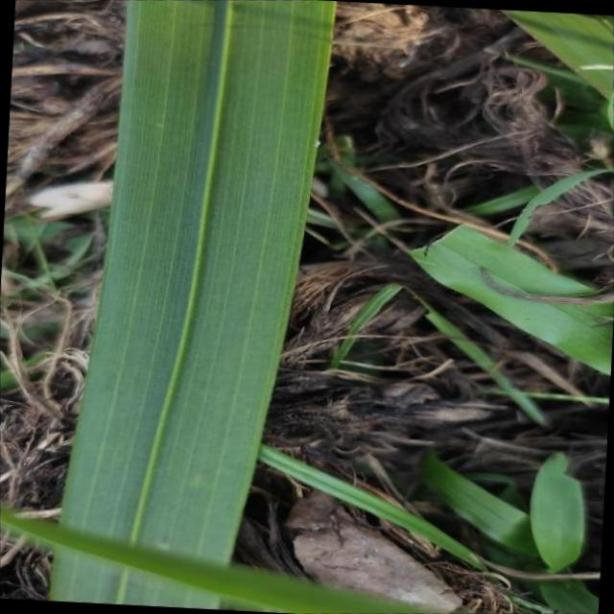Healthy: (49, 0, 335, 614)
